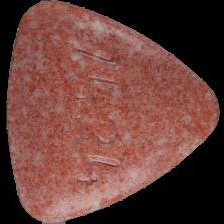68151-4338: (0, 0, 224, 224)
